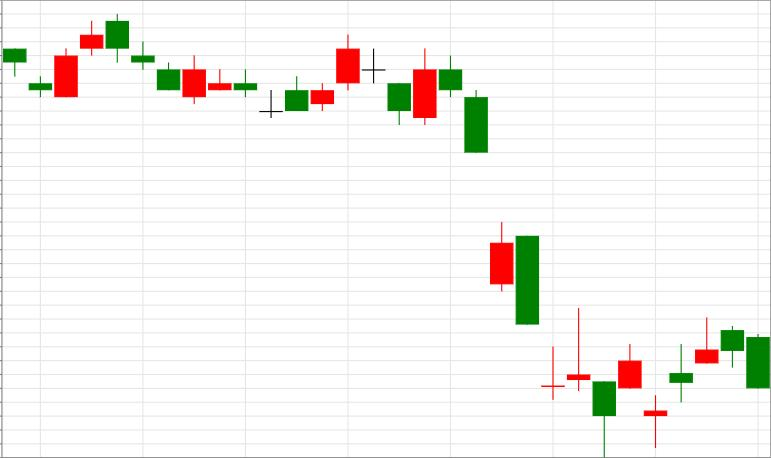hammer_rise: (439, 57, 615, 457)
